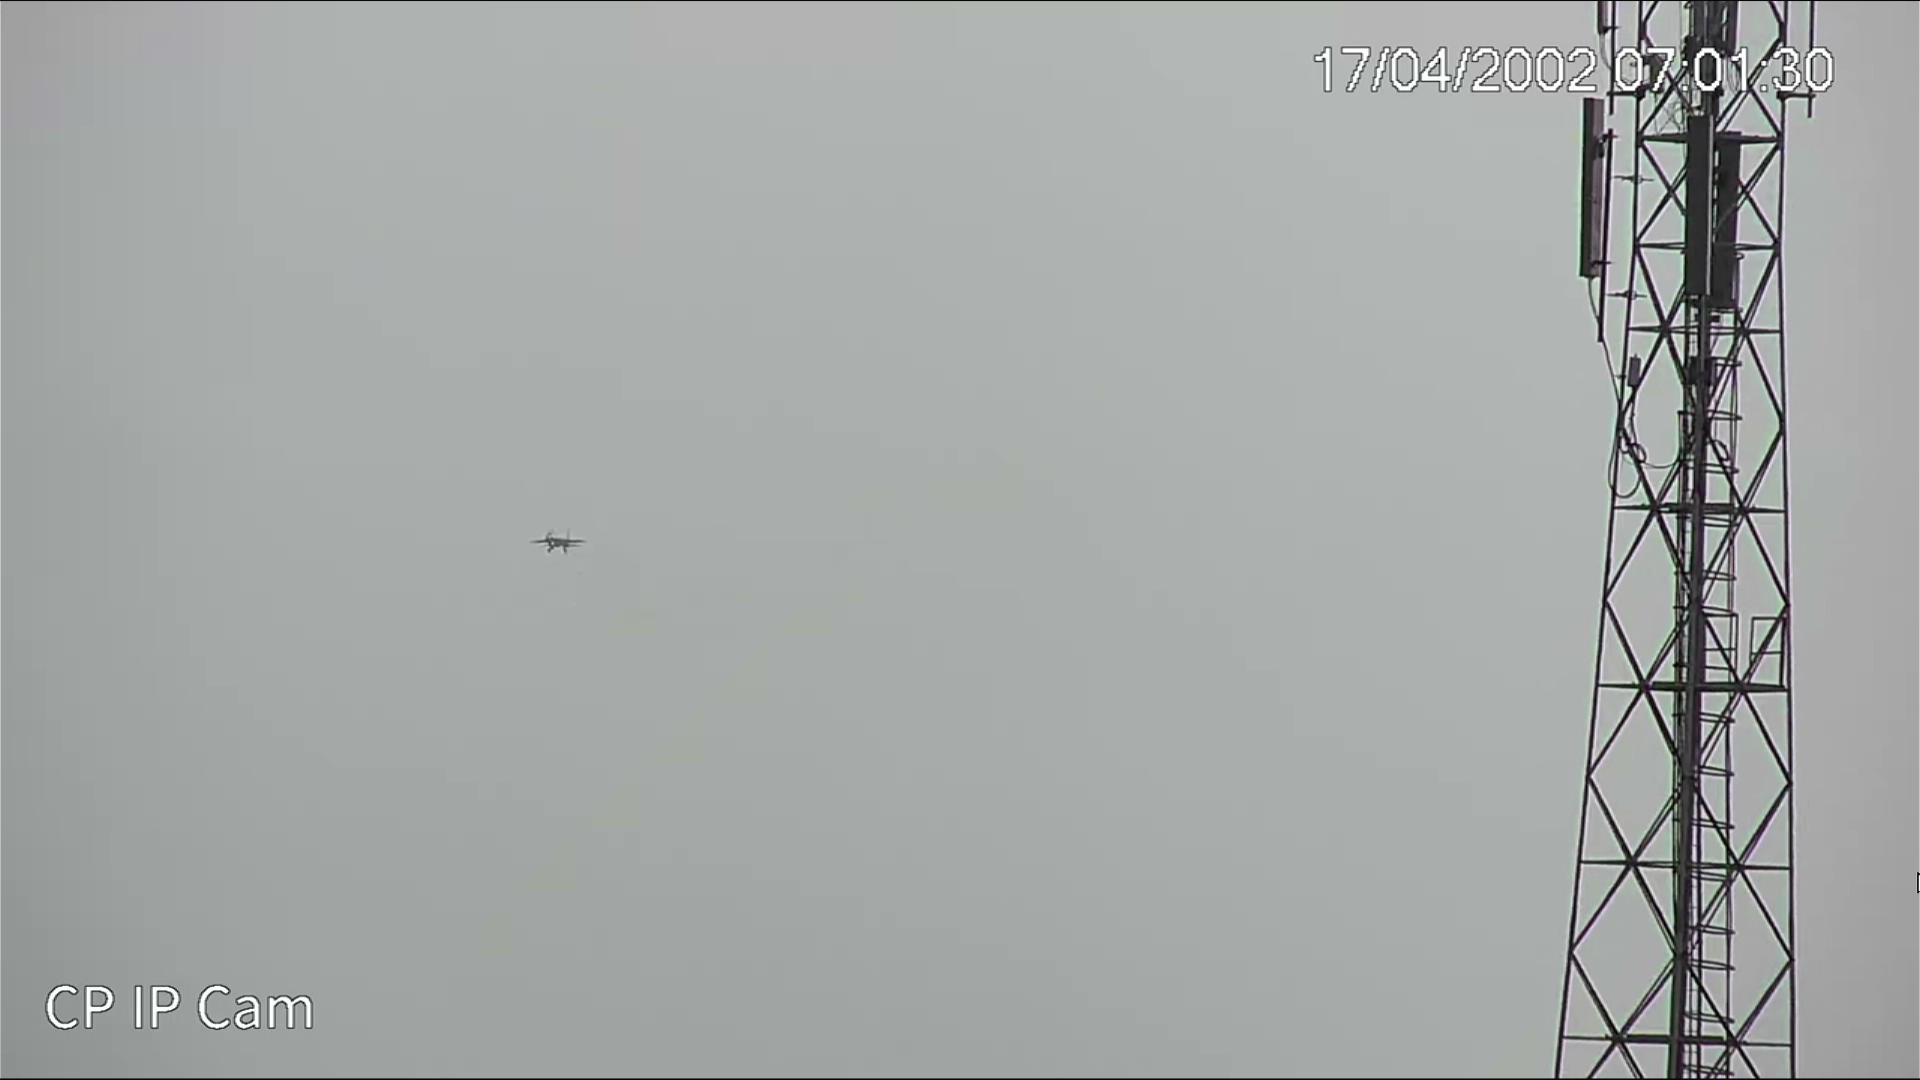SU_30: (533, 529, 587, 554)
